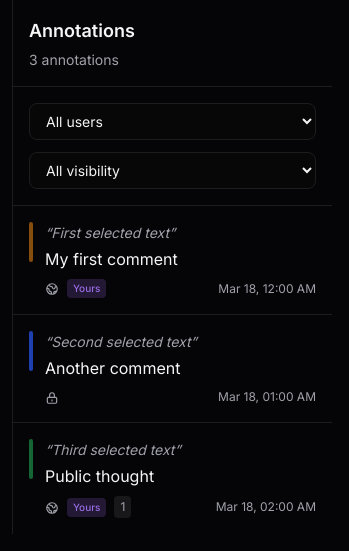
Test: AnnotationSidebar › Filter by Visibility › should filter annotations by visibility
Step 1. Select "Public" in the dropdown named "filter by visibility" → [172, 171], box [29, 152, 316, 189]
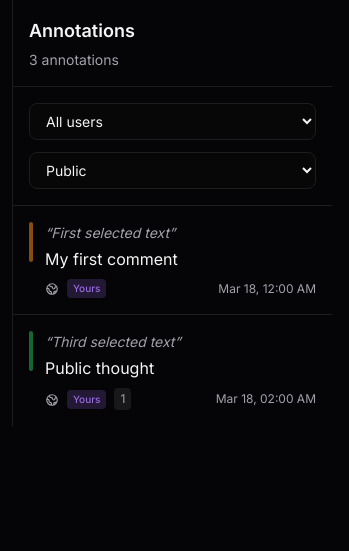
Check: the text "My first comment" is shown, box [45, 249, 178, 269]
Check: the button "Another comment" is gone
